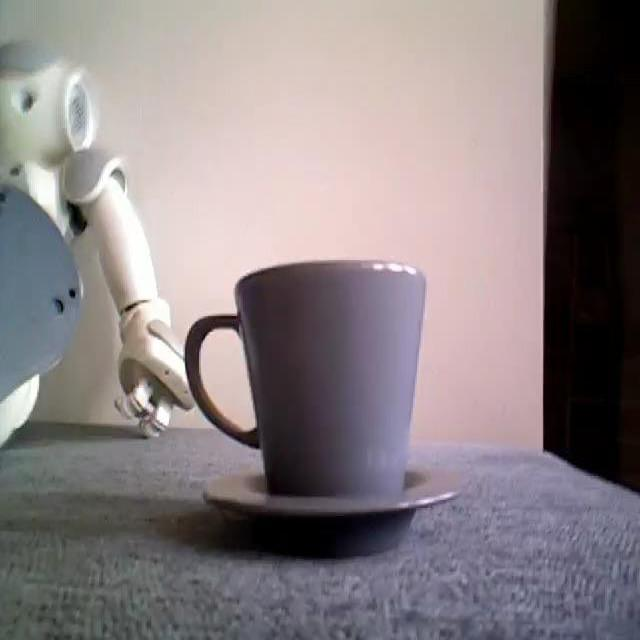cup: (204, 264, 441, 523)
